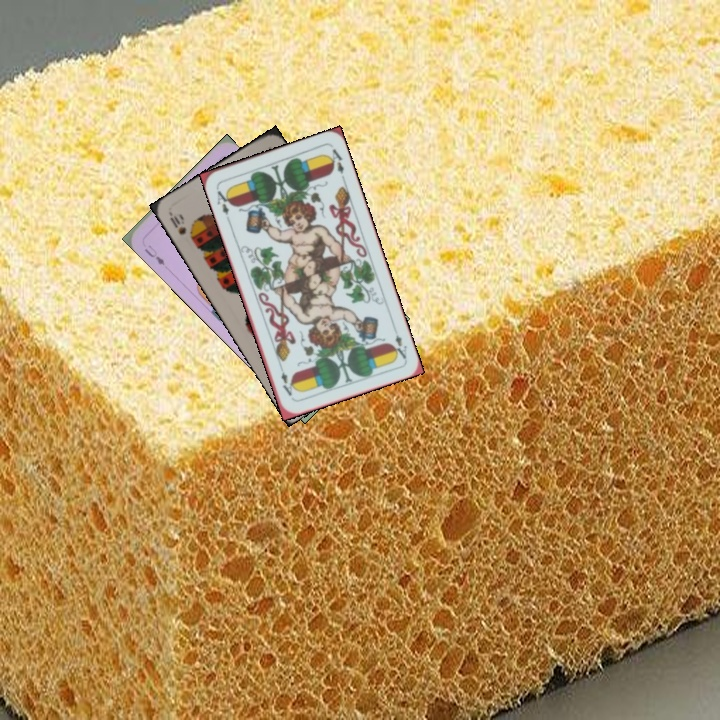EA: (388, 323, 410, 362), (212, 183, 234, 218)
EU: (140, 241, 167, 268)
S10: (166, 210, 189, 237)
